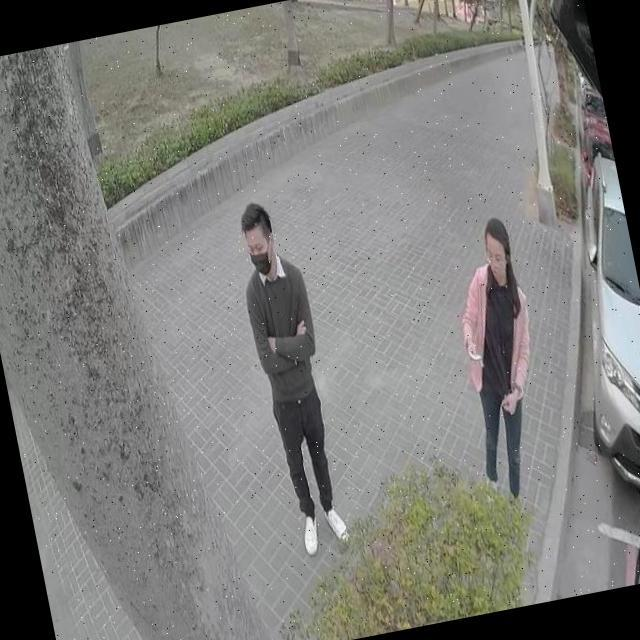person: (228, 200, 354, 557), (438, 208, 563, 509)
